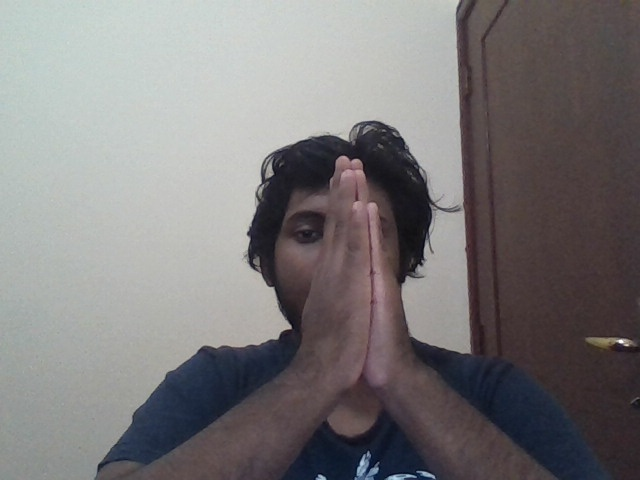namaste: (302, 156, 415, 387)
